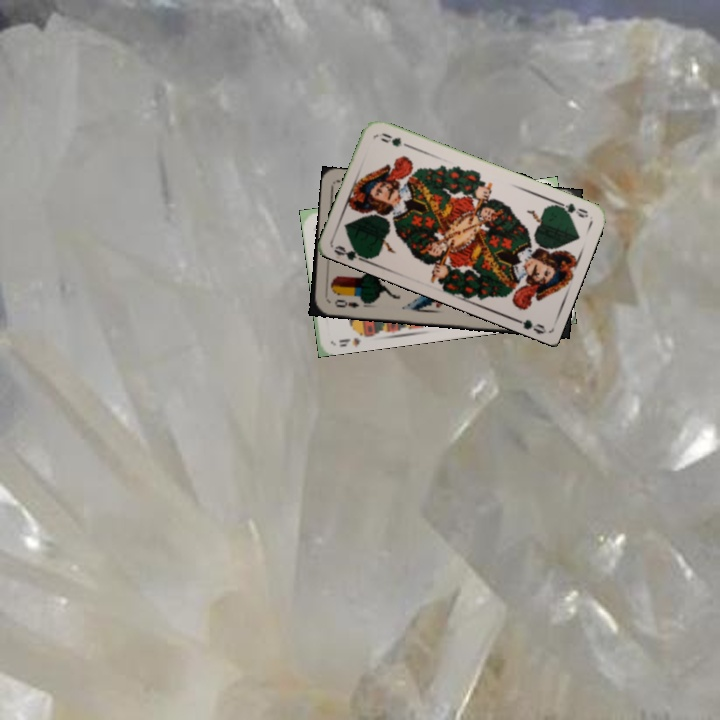EO: (330, 295, 361, 311)
GO: (331, 241, 372, 266), (550, 197, 591, 220)
S9: (335, 327, 372, 349)
